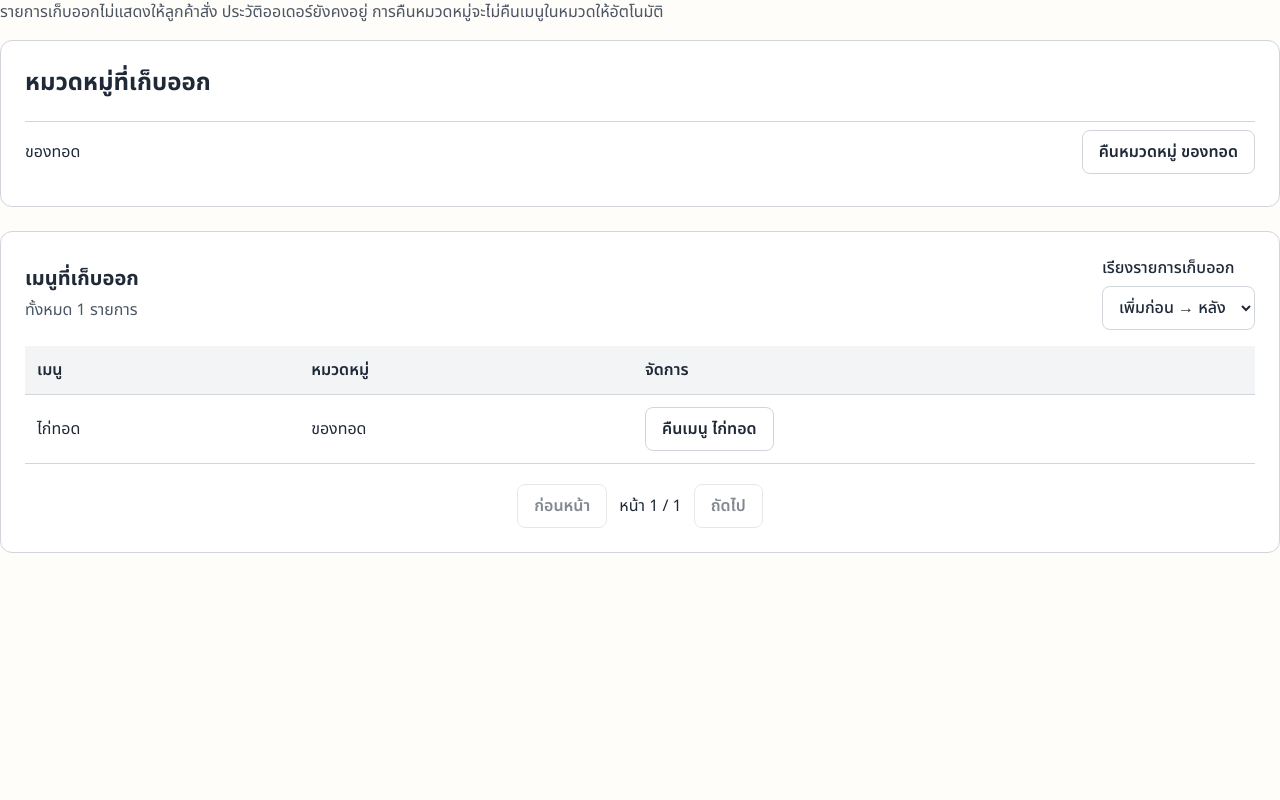
Test: MenuArchivePanel UI draft with injected gateway › requires confirmation and cancellation makes no restore request
What coordinates should you click on to do the following:
click the button "คืนเมนู ไก่ทอด"
I would click on:
 (709, 429)
Its box is top-left (645, 407), bottom-right (774, 451).
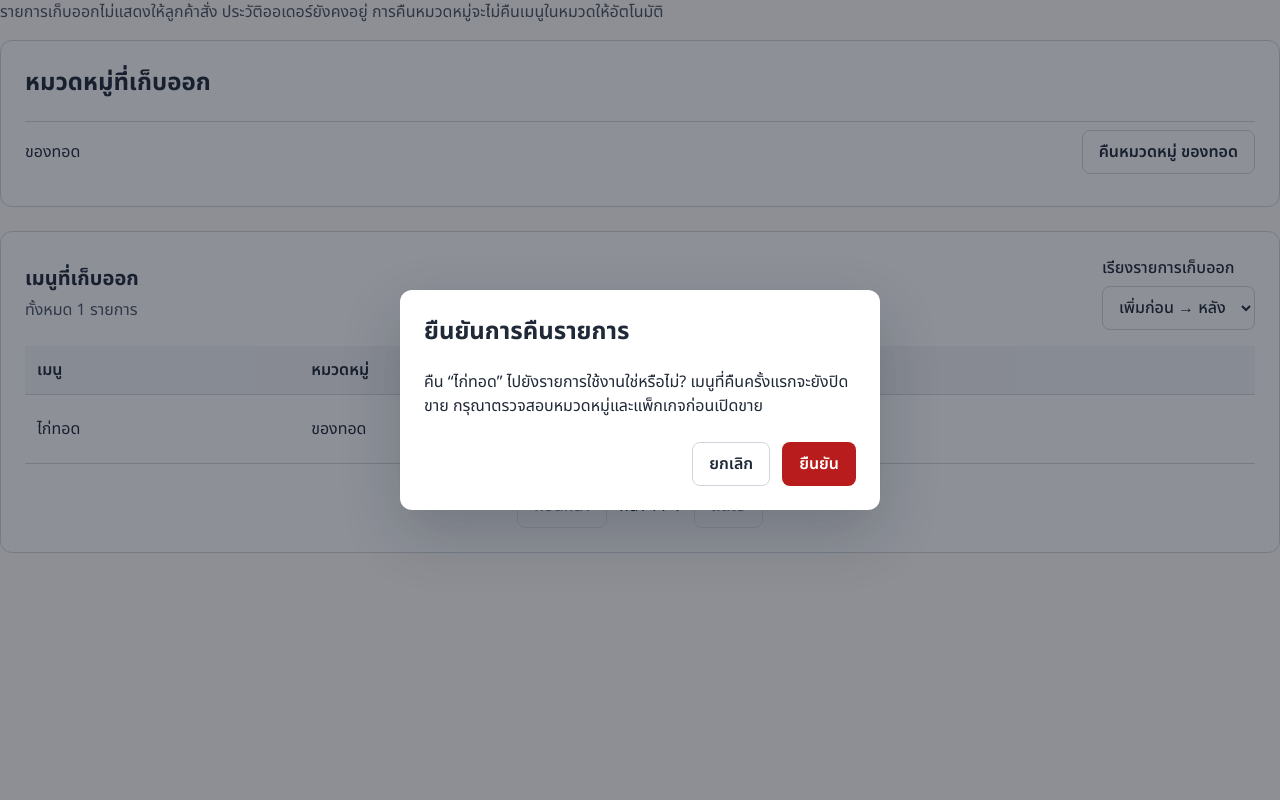
Expected: the text "เมนูที่คืนครั้งแรกจะยังปิดขาย" is shown, top-left (424, 370), bottom-right (848, 418)
What coordinates should you click on to do the following:
click the button "ยกเลิก"
I would click on:
 (731, 464)
Its box is top-left (692, 442), bottom-right (770, 486).
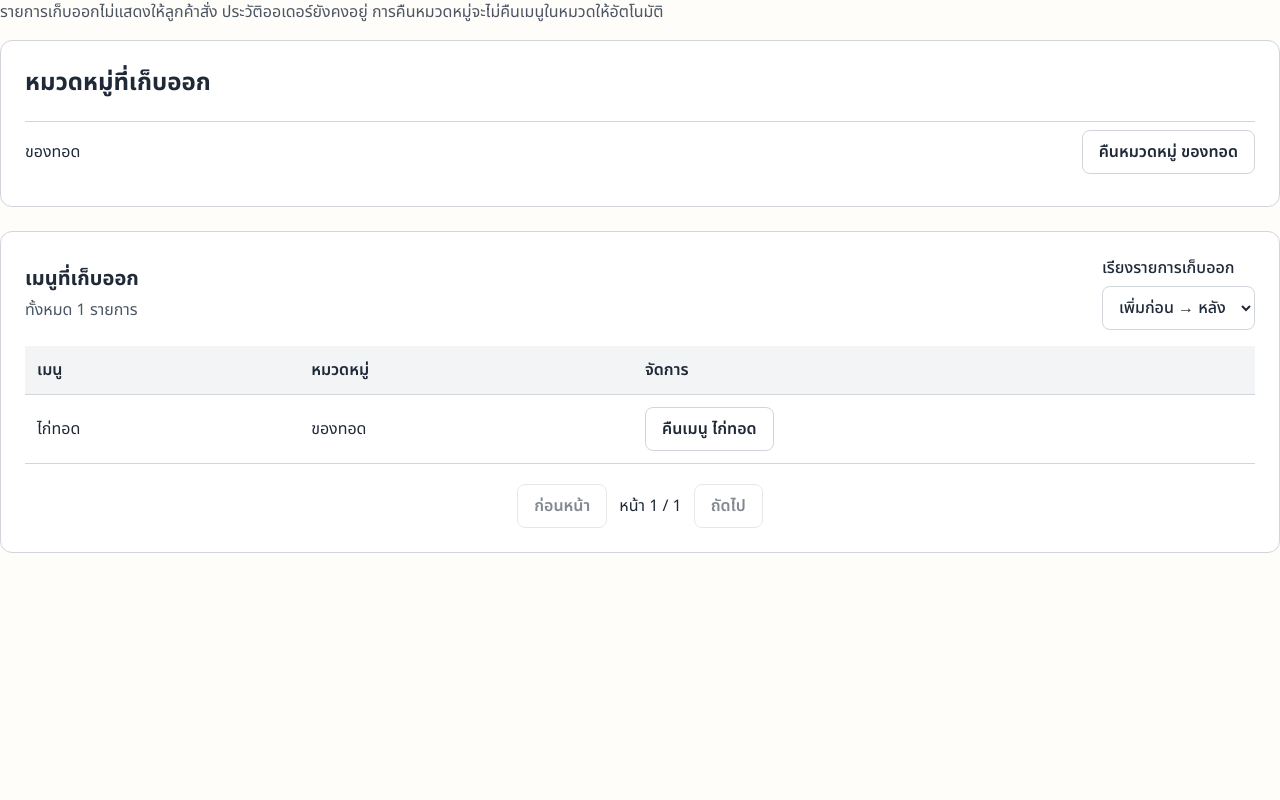
Expected: the dialog is gone
